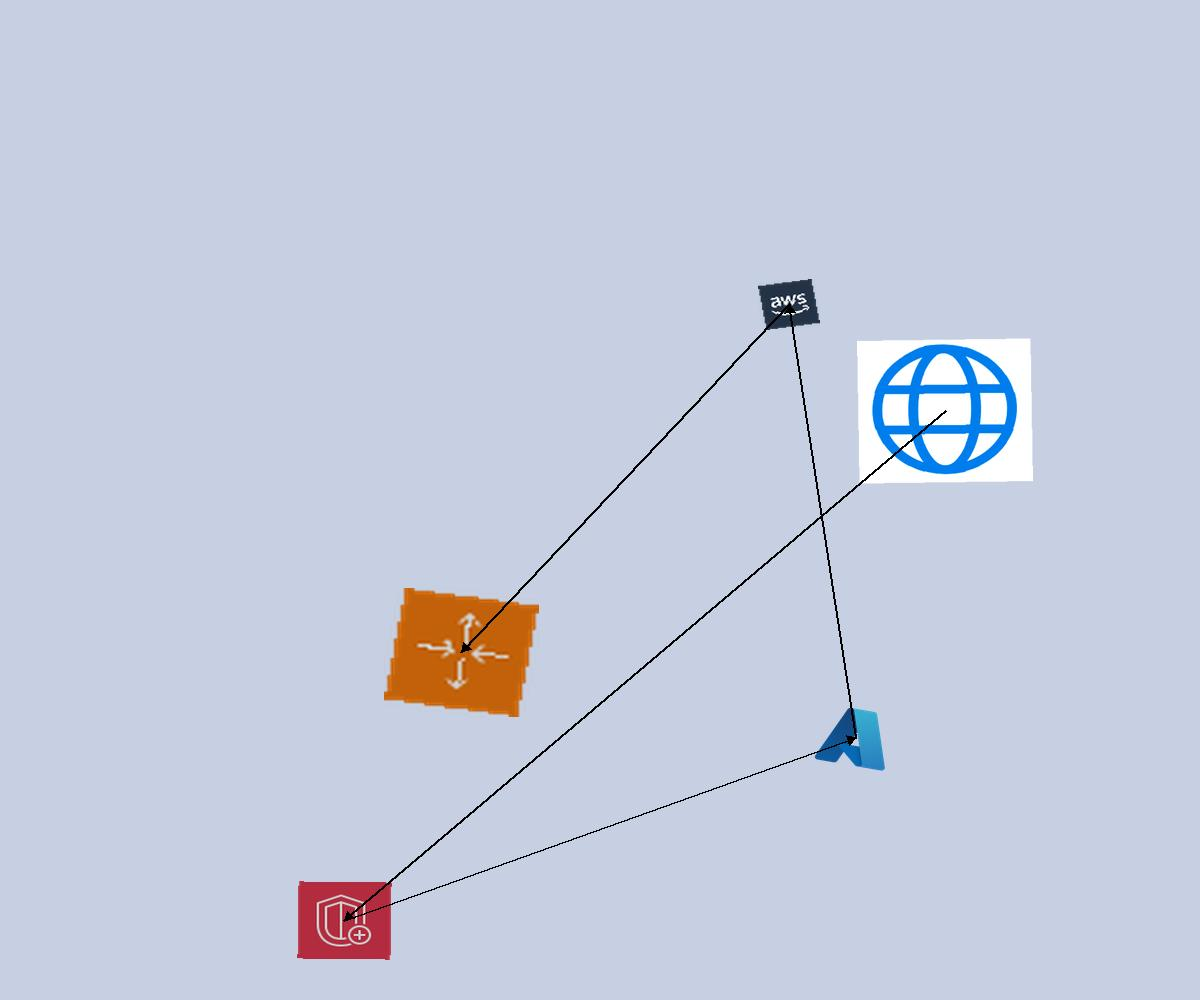AWS-Cloud-logo: (758, 279, 820, 330)
AWS-Scaling-group: (384, 588, 539, 717)
AWS-Shield: (297, 881, 392, 960)
Azure_http: (857, 338, 1033, 484)
Azure_services: (810, 699, 902, 776)
